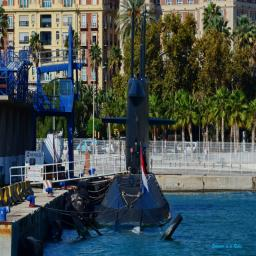submarine: (97, 2, 186, 243)
